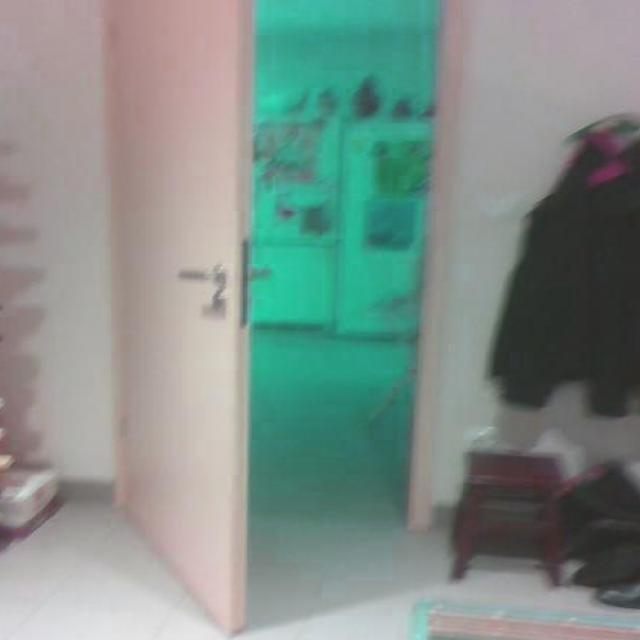door: (103, 4, 283, 640)
